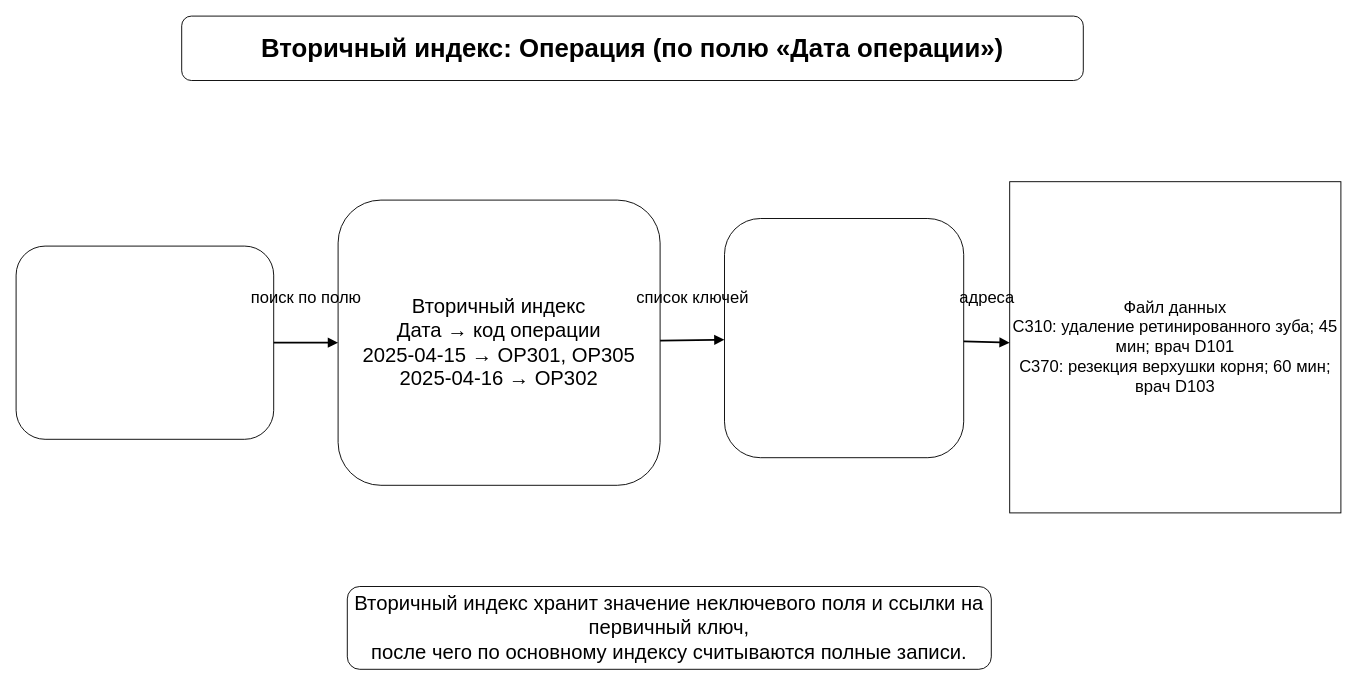
This 1357x685 diagram has some shape labels left out. Here are the shapes that lost their labels. From the top down, the centre of each, then its label:
At point 144,342: "Запрос: Показать все операции за дату 2025-04-15".
At point 844,338: "Основной индекс OP301 → C310 OP302 → C340 OP305 → C370".
